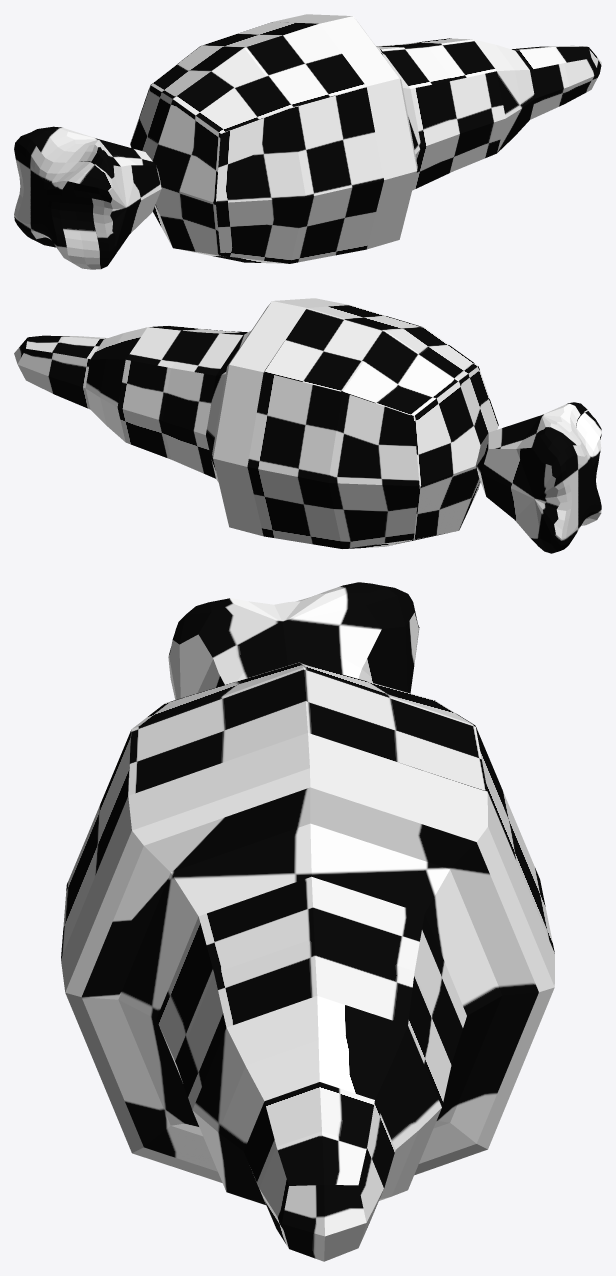
Rendered from missile.glb.
3 renders of one model, top to bottom at view 1: azimuth 30°, elevation 25°; view 2: azimuth 150°, elevation 25°; view 3: azimuth 270°, elevation 25°, orthographic. The views are drawn at different scales.
Visible parts, largest first — view 1: bus; view 2: bus; view 3: bus.
Part boxes in pixels (x1=…): bus: x1=14, y1=14, x2=601, y2=269; bus: x1=14, y1=298, x2=601, y2=553; bus: x1=61, y1=582, x2=554, y2=1261.
Bounding box in the file's own units: 8.96 × 3.39 × 3.39.
1 material, 1 textured.
